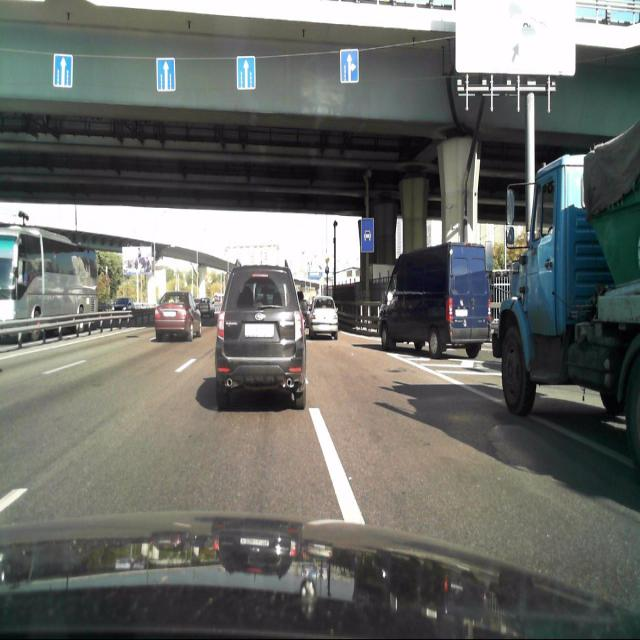road sign: (340, 46, 360, 83), (157, 56, 178, 91), (236, 52, 256, 88), (52, 52, 72, 86), (360, 217, 376, 252)
